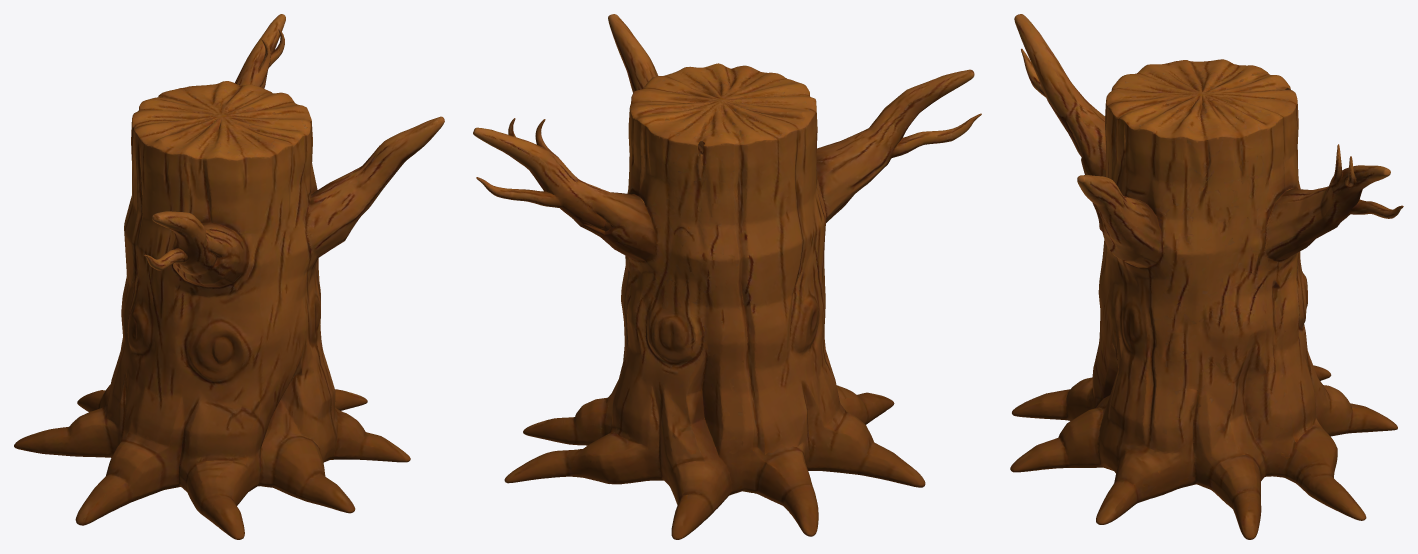
Rendered from eggaro-tree-b.glb.
The picture shows the model from 3 angles, left to right: view 1: azimuth 30°, elevation 25°; view 2: azimuth 150°, elevation 25°; view 3: azimuth 270°, elevation 25°; orthographic projection. The views are drawn at different scales.
Parts seen in each view (by area): view 1: world; view 2: world; view 3: world.
Part boxes in pixels (box(x1,y1,x2,y2)): world: box(14, 14, 444, 539); world: box(473, 14, 981, 539); world: box(1010, 14, 1403, 539).
Bounding box in the file's own units: 1 × 1 × 0.9631.
1 material, 1 textured.
